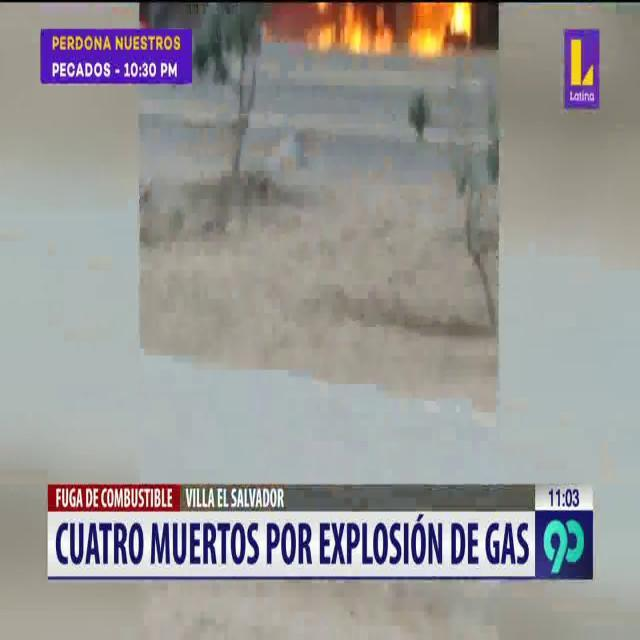Fire: (308, 1, 478, 64), (409, 1, 475, 59)
